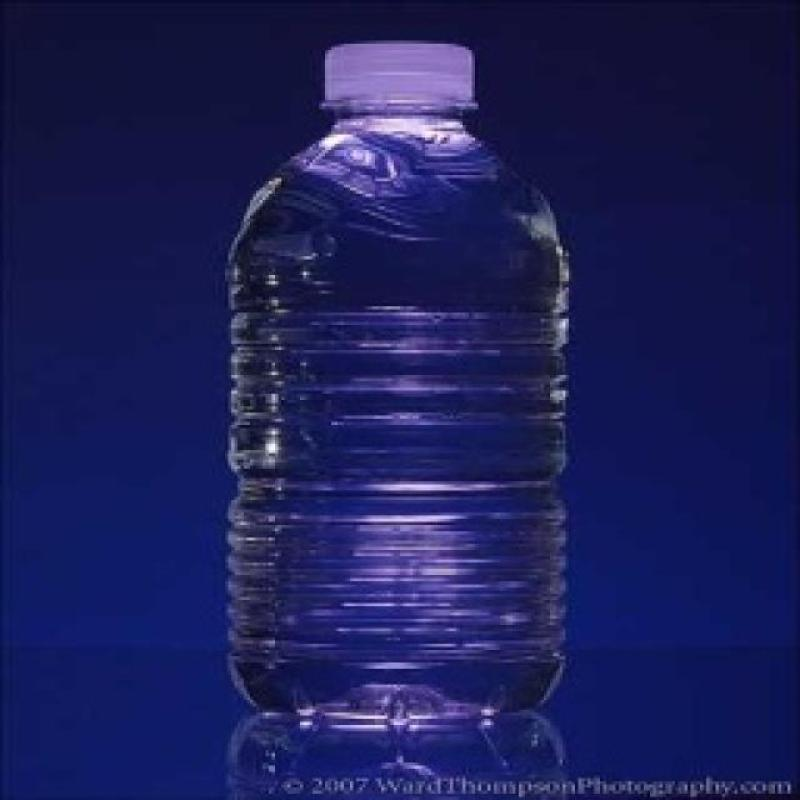botella: (224, 40, 574, 735)
